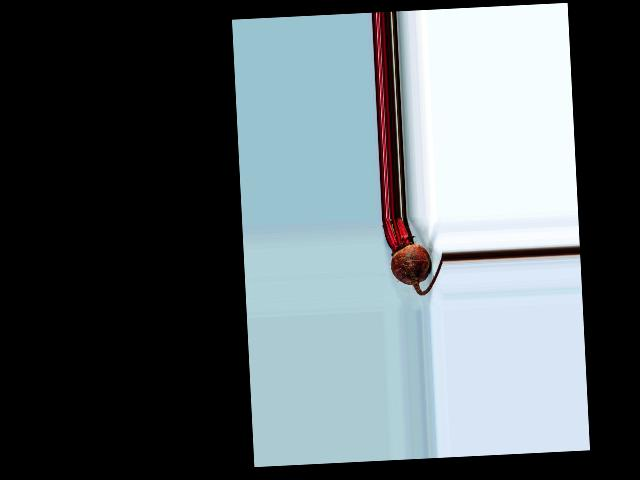beet: (381, 214, 444, 296)
